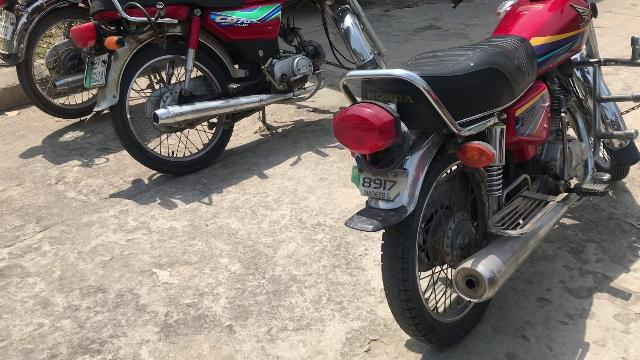plate: (351, 163, 407, 201)
